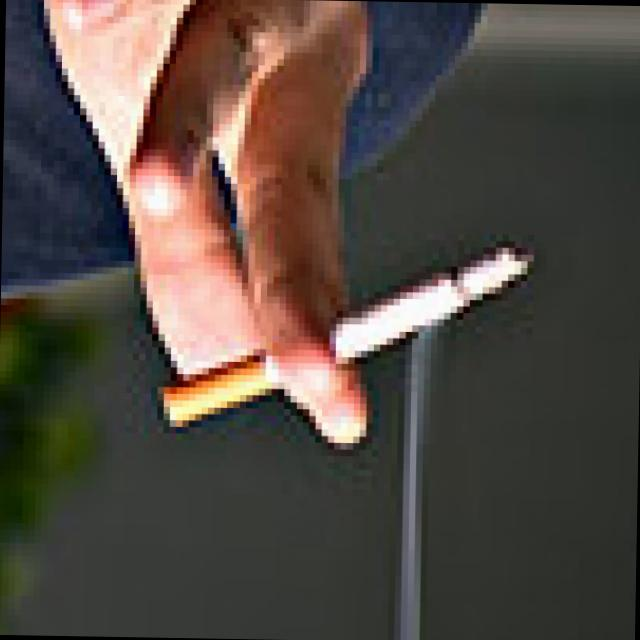cigarette: (339, 242, 536, 371)
